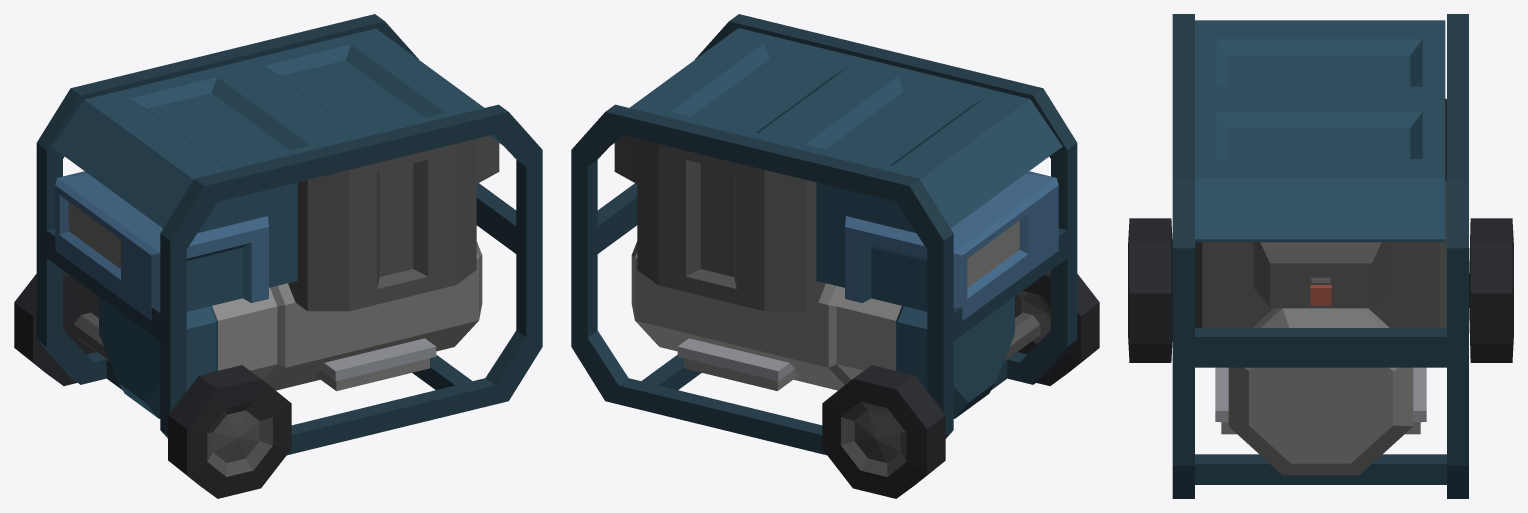
Rendered from apoc_SM_Prop_Generator_01.gltf.
3 renders of one model, left to right at view 1: azimuth 30°, elevation 25°; view 2: azimuth 150°, elevation 25°; view 3: azimuth 270°, elevation 25°, orthographic. The views are drawn at different scales.
Parts seen in each view (by area): view 1: SM_Prop_Generator_01; view 2: SM_Prop_Generator_01; view 3: SM_Prop_Generator_01.
Part boxes in pixels (<box>): SM_Prop_Generator_01: <box>14,14,542,498</box>; SM_Prop_Generator_01: <box>571,14,1099,498</box>; SM_Prop_Generator_01: <box>1128,14,1513,498</box>.
Bounding box in the file's own units: 0.8351 × 0.5979 × 0.6358.
Materials: 1 (1 with a texture image).
